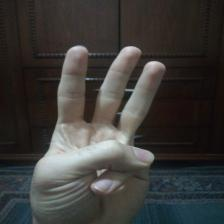five: (22, 40, 173, 219)
